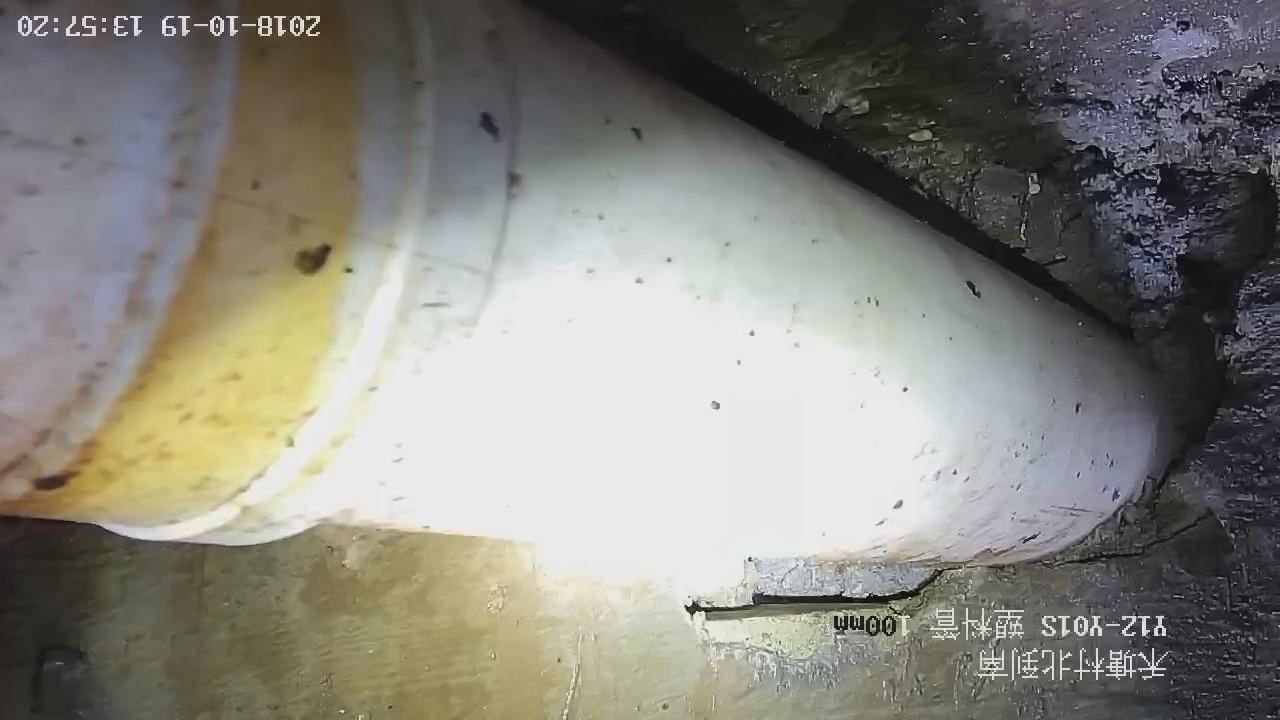YWCR: (1, 1, 1176, 574)
